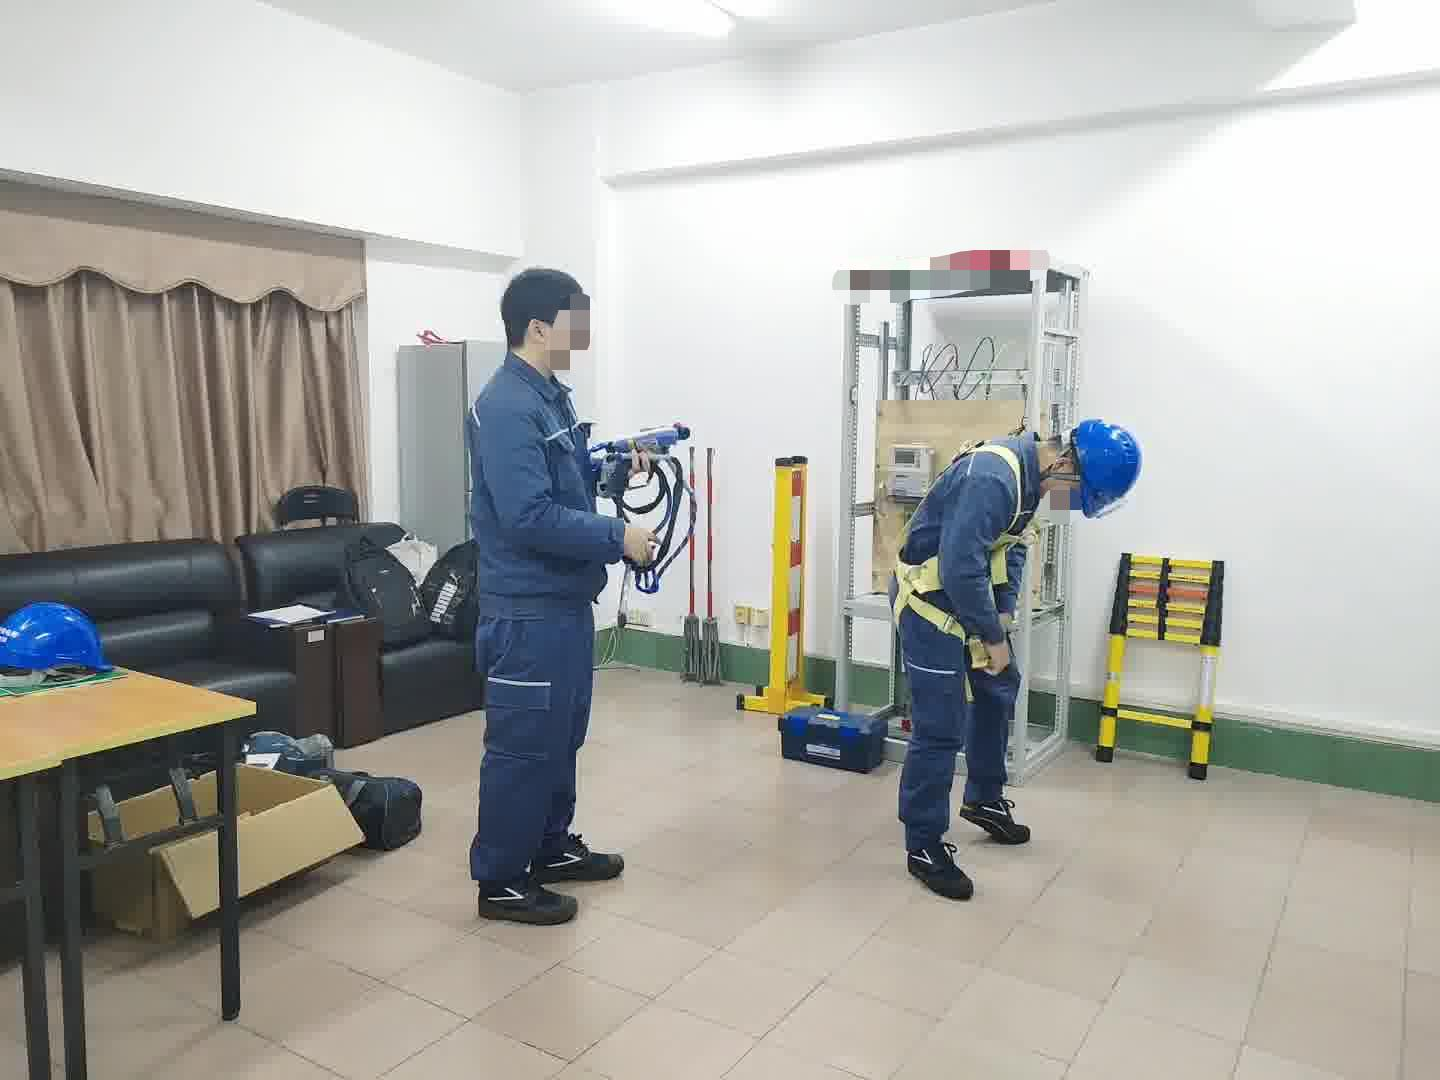halt: (1042, 417, 1146, 521)
inear: (1044, 454, 1081, 491)
noear: (524, 317, 560, 356)
unhalt: (499, 272, 594, 374)
